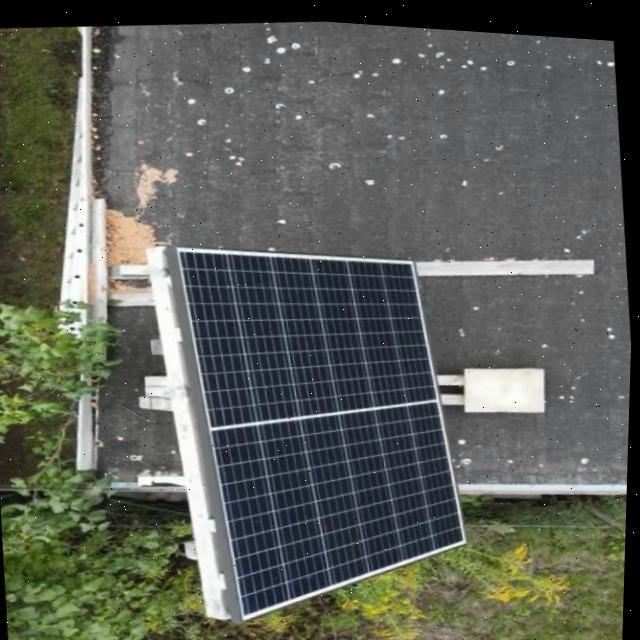Normal Solar Panel: (170, 222, 480, 628)
